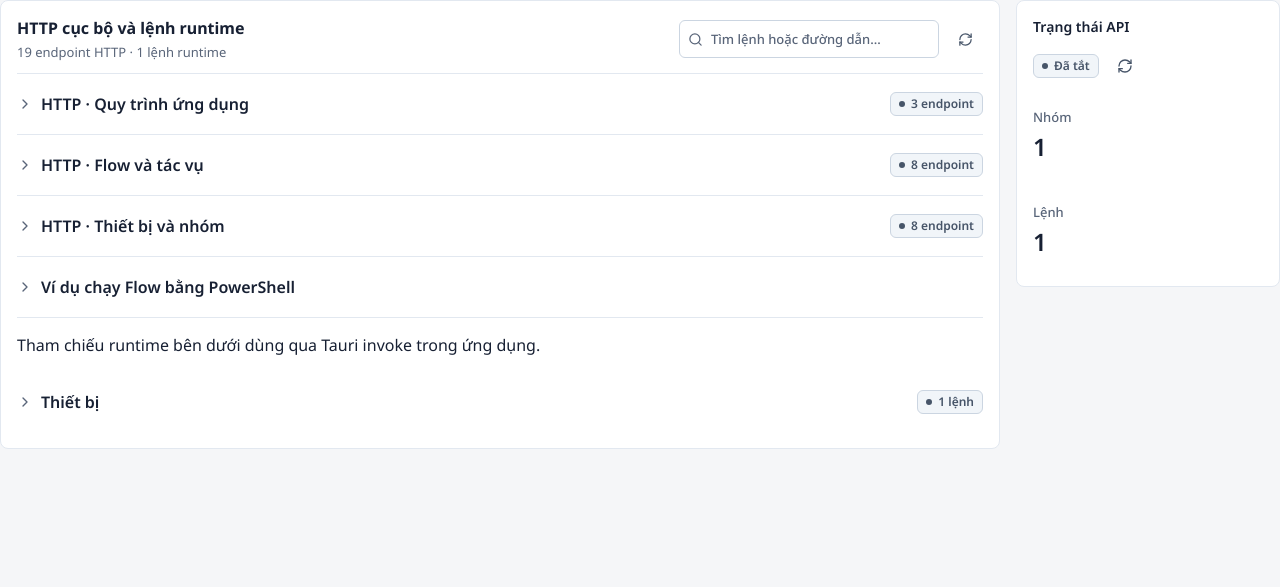
Test: ApiPage load states › keeps the last documentation and listener context when a refresh fails
Click the heading "Thiết bị 1 lệnh" at (70, 402), box left=17, top=384, right=983, bottom=420
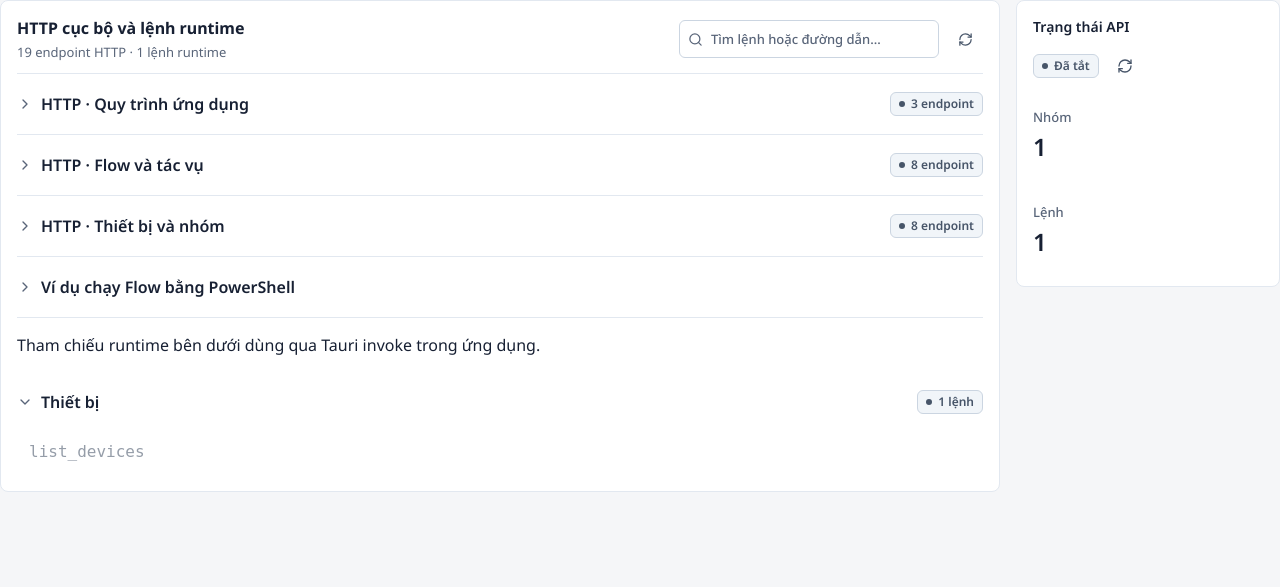
Result: the text "list_devices" is shown at left=29, top=442, right=145, bottom=461
Click the button named "Làm mới tài liệu API" at (965, 39), box left=947, top=21, right=983, bottom=57
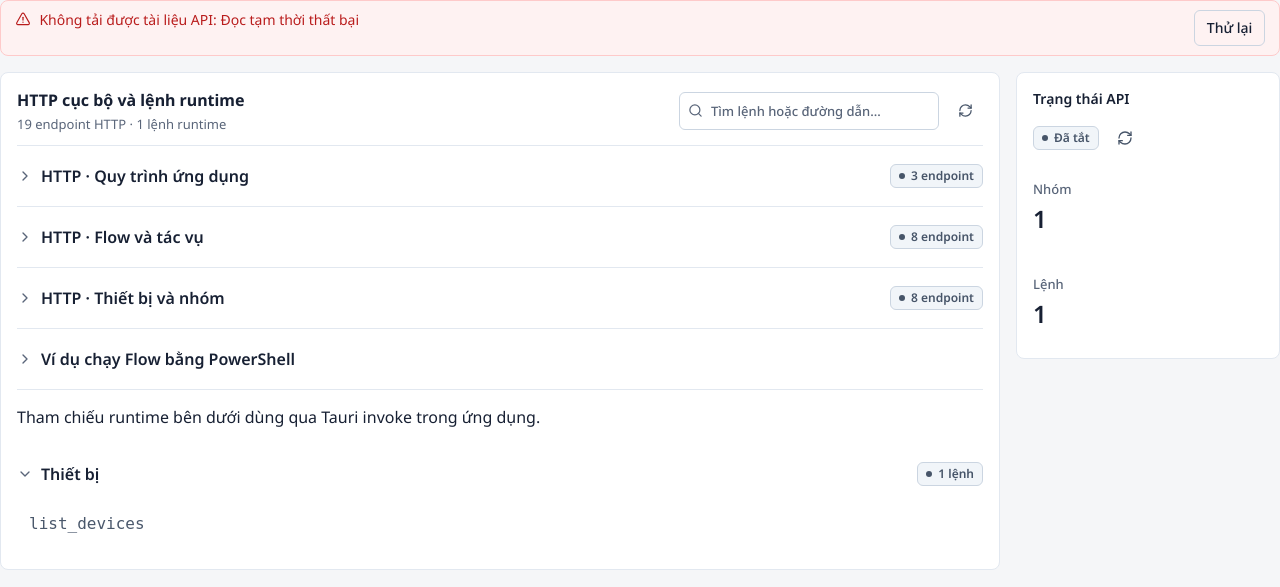
Result: the text "list_devices" is shown at left=29, top=514, right=145, bottom=533
Result: the message shows "Đọc tạm thời thất bại" at left=220, top=10, right=359, bottom=29
Result: the button "Thử lại" is enabled at left=1194, top=10, right=1265, bottom=46
